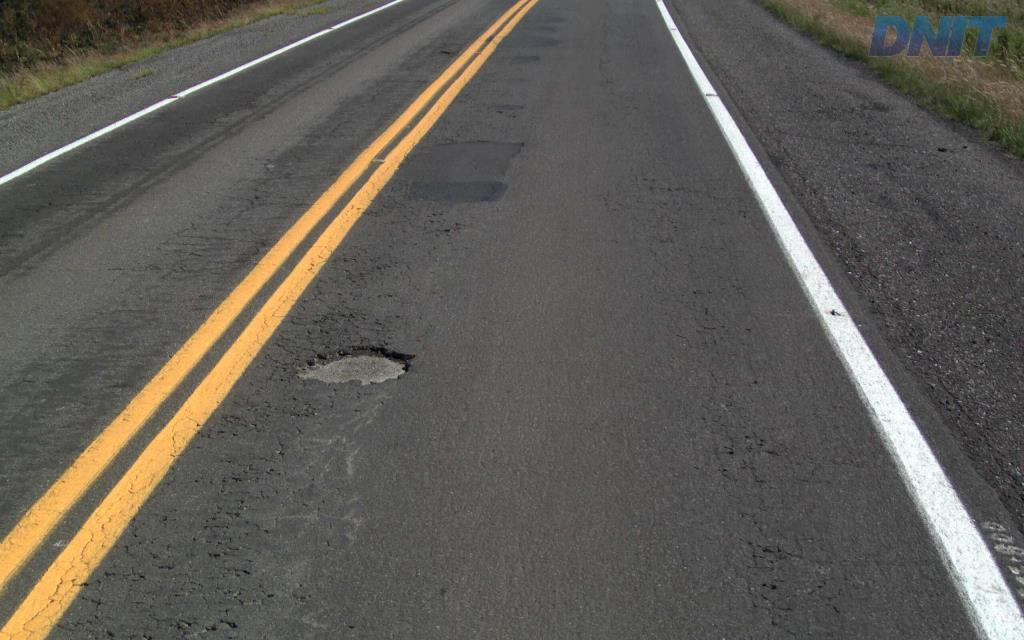pothole: (295, 336, 417, 386)
